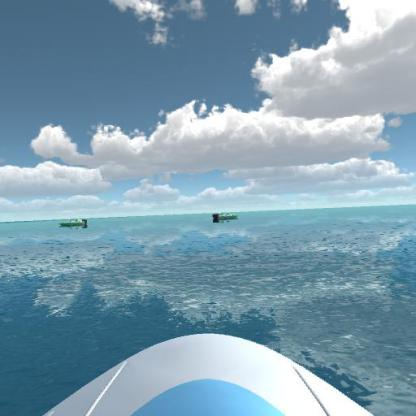usv0: (56, 211, 93, 230), (207, 207, 241, 225)
